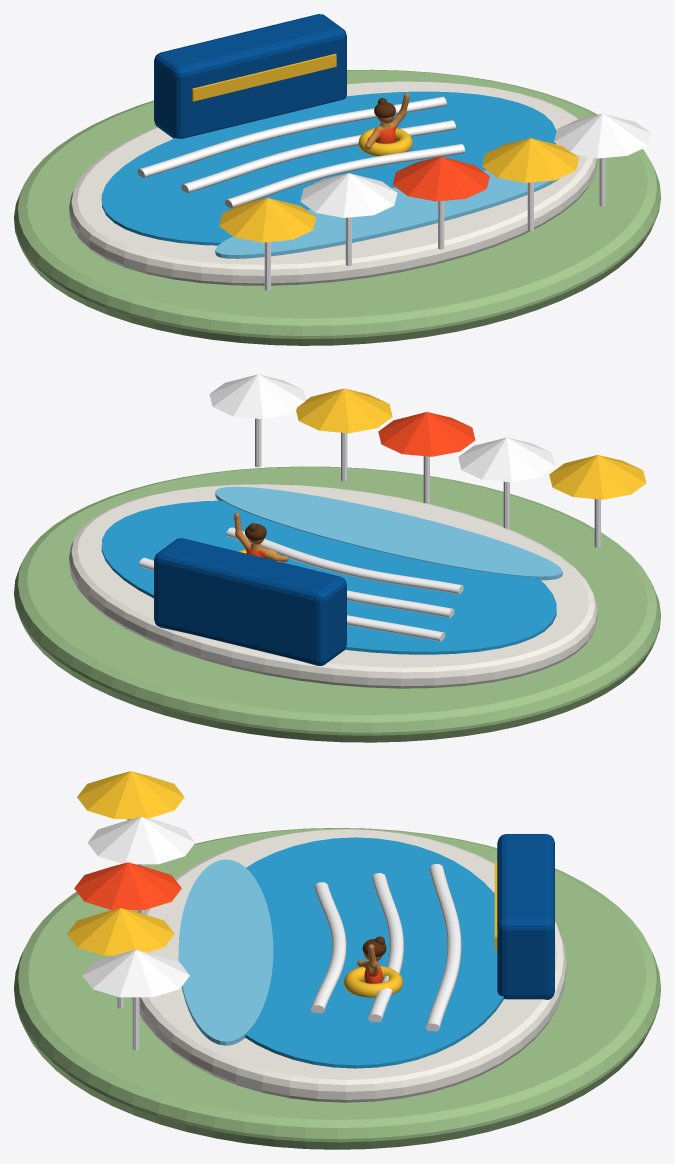
The model's file is 06-thunder-bay.glb.
The picture shows the model from 3 angles, top to bottom: view 1: azimuth 30°, elevation 25°; view 2: azimuth 150°, elevation 25°; view 3: azimuth 270°, elevation 25°; orthographic projection. The views are drawn at different scales.
Visible parts, largest first — view 1: Base.005, Water, Deck.001, Wave House, Beach, Umbrella.002, Umbrella.001, Umbrella, Umbrella.003, Umbrella.004, Wave, Wave.002 (+4 smaller); view 2: Base.005, Deck.001, Water, Wave House, Beach, Umbrella, Umbrella.002, Umbrella.001, Umbrella.003, Umbrella.004, Wave.002, Wave (+2 smaller); view 3: Base.005, Water, Deck.001, Beach, Wave House, Umbrella.004, Umbrella.001, Umbrella, Umbrella.002, Umbrella.003, Wave, Wave.001 (+3 smaller).
Part boxes in pixels (left/top/right/bottom): Base.005: left=14, top=69, right=660, bottom=345; Water: left=101, top=91, right=556, bottom=245; Deck.001: left=69, top=81, right=597, bottom=285; Wave House: left=154, top=14, right=346, bottom=138; Beach: left=215, top=170, right=559, bottom=258; Umbrella.002: left=392, top=156, right=489, bottom=201; Umbrella.001: left=300, top=173, right=397, bottom=217; Umbrella: left=219, top=197, right=316, bottom=242; Umbrella.003: left=482, top=138, right=578, bottom=182; Umbrella.004: left=554, top=113, right=650, bottom=158; Wave: left=137, top=96, right=446, bottom=177; Wave.002: left=225, top=144, right=465, bottom=208; Base.005: left=14, top=466, right=660, bottom=742; Deck.001: left=69, top=484, right=597, bottom=688; Water: left=101, top=500, right=556, bottom=654; Wave House: left=154, top=538, right=346, bottom=665; Beach: left=215, top=486, right=562, bottom=580; Umbrella: left=549, top=455, right=646, bottom=499; Umbrella.002: left=378, top=412, right=475, bottom=456; Umbrella.001: left=458, top=437, right=555, bottom=482; Umbrella.003: left=296, top=388, right=392, bottom=433; Umbrella.004: left=209, top=374, right=305, bottom=419; Wave.002: left=226, top=527, right=463, bottom=594; Wave: left=139, top=557, right=445, bottom=641; Base.005: left=14, top=828, right=660, bottom=1149; Water: left=245, top=837, right=503, bottom=1068; Deck.001: left=131, top=829, right=566, bottom=1102; Beach: left=178, top=859, right=273, bottom=1045; Wave House: left=497, top=834, right=554, bottom=999; Umbrella.004: left=82, top=949, right=189, bottom=997; Umbrella.001: left=88, top=817, right=195, bottom=864; Umbrella: left=77, top=771, right=184, bottom=818; Umbrella.002: left=74, top=862, right=181, bottom=909; Umbrella.003: left=67, top=908, right=174, bottom=955; Wave: left=425, top=864, right=461, bottom=1031; Wave.001: left=368, top=873, right=403, bottom=1022.
Bounding box in the file's own units: 4 × 0.89 × 3.6.
